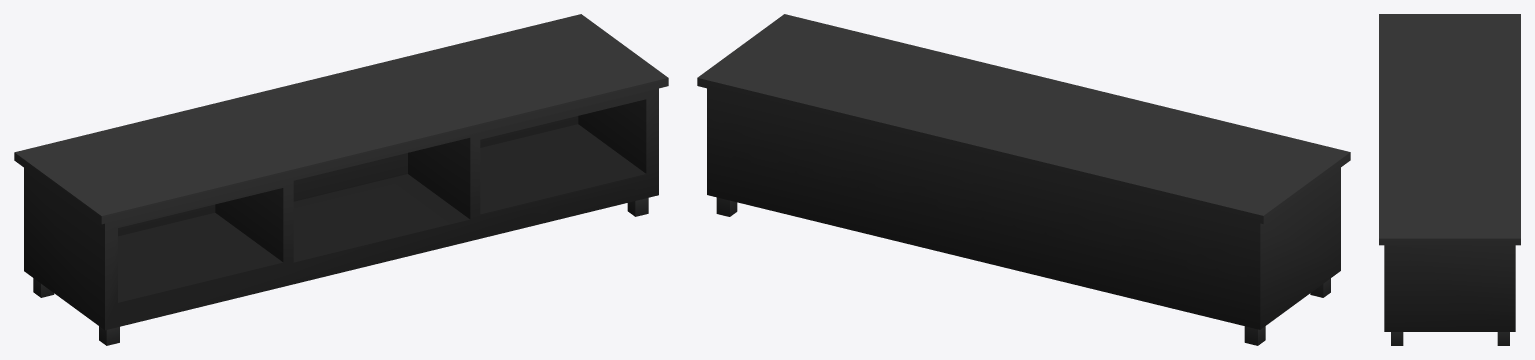
Rendered from SideboardCabinet_A_Open_Black.fbx.
3 views of the same model, side by side, from view 1: azimuth 30°, elevation 25°; view 2: azimuth 150°, elevation 25°; view 3: azimuth 270°, elevation 25° (orthographic). The views are drawn at different scales.
Visible parts, largest first — view 1: SideboardCabinet_A_Open_Black; view 2: SideboardCabinet_A_Open_Black; view 3: SideboardCabinet_A_Open_Black.
Boxes of the visible parts, left/top/right/bottom form: SideboardCabinet_A_Open_Black: left=14, top=14, right=668, bottom=345; SideboardCabinet_A_Open_Black: left=697, top=14, right=1350, bottom=345; SideboardCabinet_A_Open_Black: left=1379, top=14, right=1520, bottom=345.
Size of the model in its own units: 300 by 69.86 by 80.
